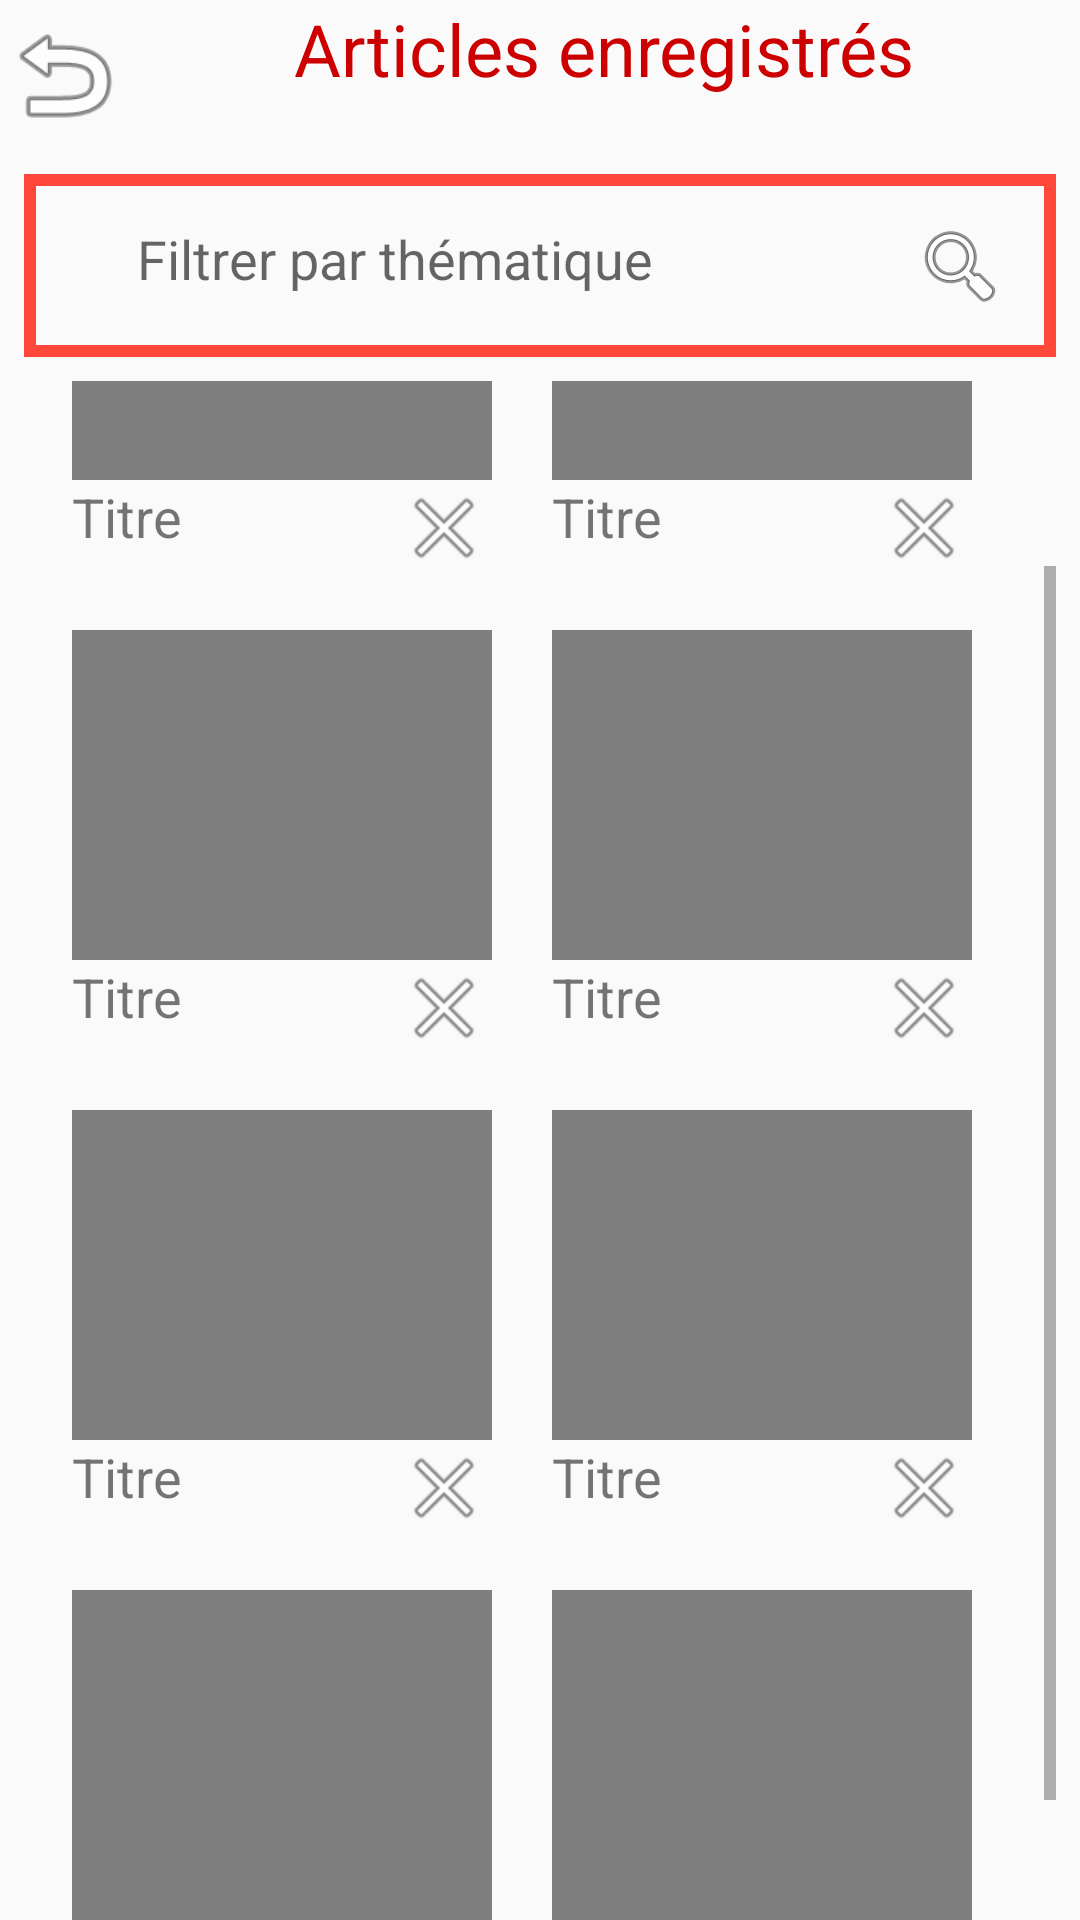

Named icons in this screenshot (1080x1920) and their bounding boxes, (x1, y1, x2, y2):
revert: (19, 34, 112, 118)
